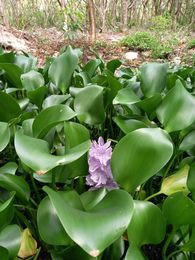water_hyacinth: (0, 52, 195, 259)
